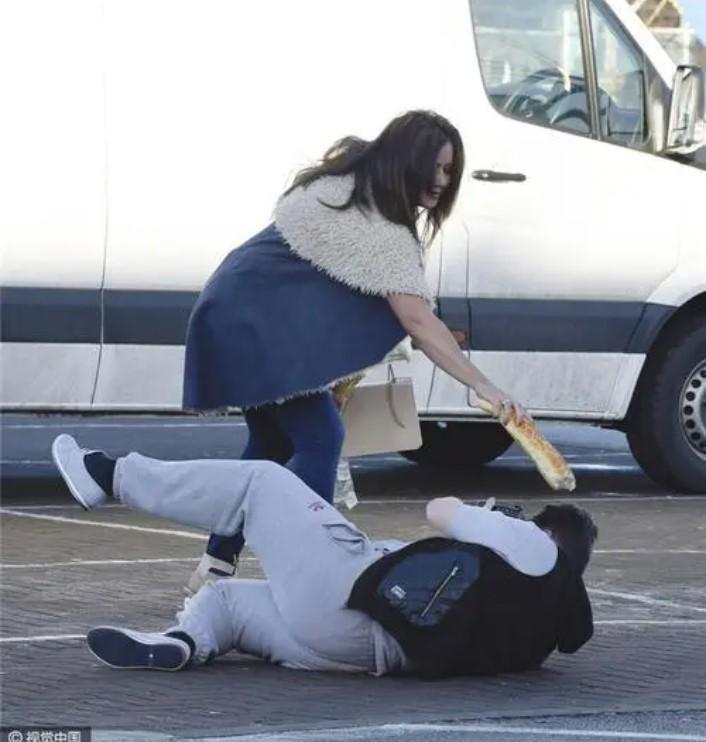bending: (184, 96, 534, 510)
down: (46, 423, 597, 691)
